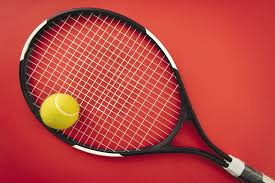tennis_ball: (39, 93, 79, 129)
